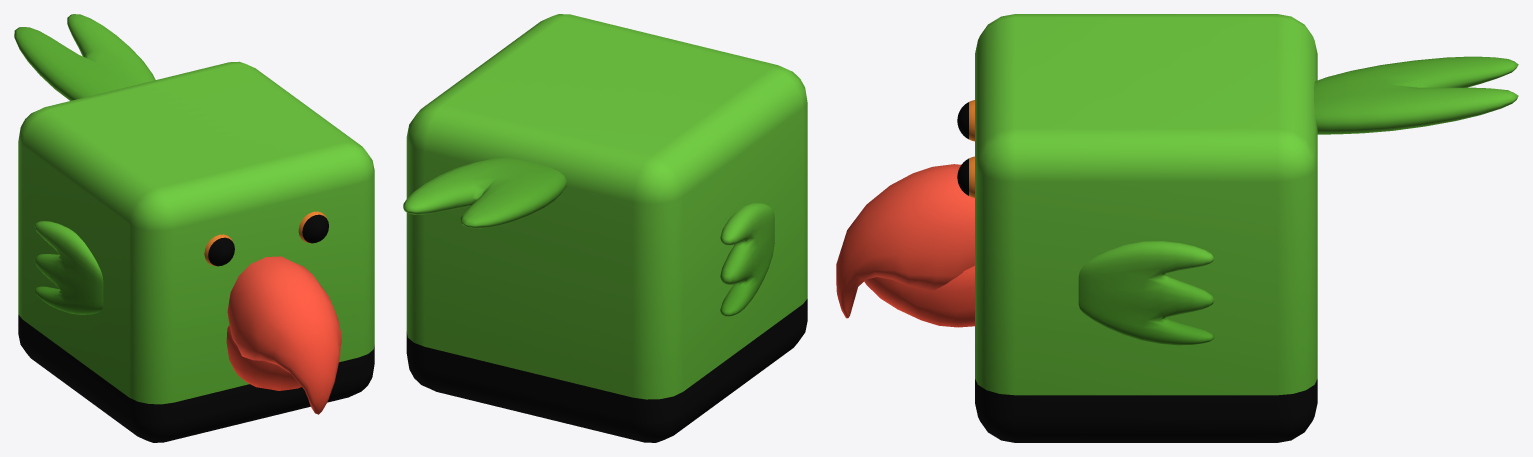
The model's file is Parrot.fbx.
3 views of the same model, side by side, from view 1: azimuth 30°, elevation 25°; view 2: azimuth 150°, elevation 25°; view 3: azimuth 270°, elevation 25° (orthographic). The views are drawn at different scales.
Parts seen in each view (by area): view 1: Parrot; view 2: Parrot; view 3: Parrot.
Part boxes in pixels (<box>): Parrot: <box>14,14,374,442</box>; Parrot: <box>403,14,807,442</box>; Parrot: <box>836,14,1518,442</box>.
Bounding box in the file's own units: 1.14 × 1 × 1.99.
